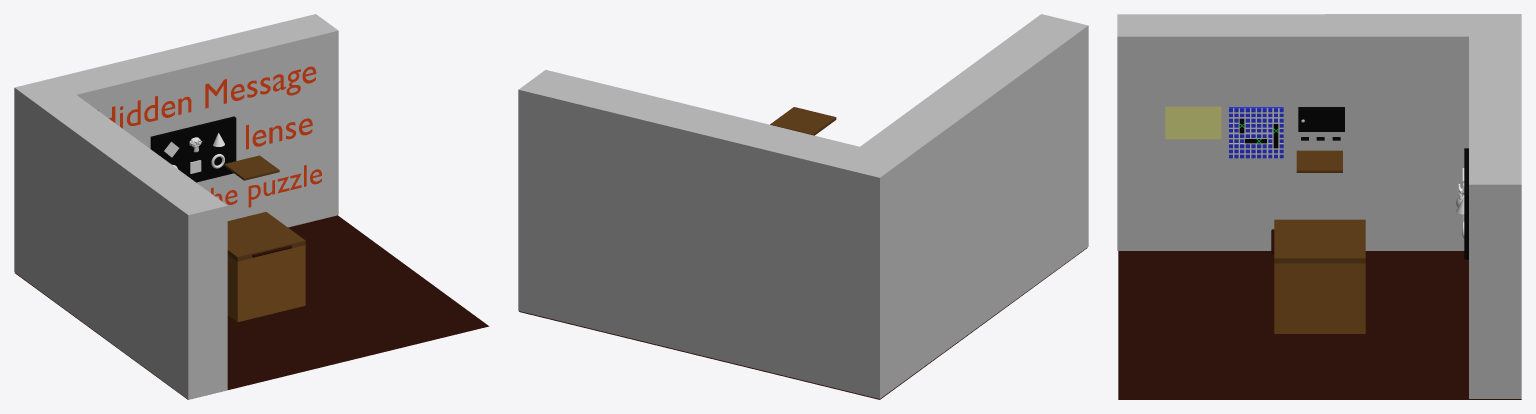
File: Corner 4.fbx
3 views of the same model, side by side, from view 1: azimuth 30°, elevation 25°; view 2: azimuth 150°, elevation 25°; view 3: azimuth 270°, elevation 25° (orthographic). The views are drawn at different scales.
Visible parts, largest first — view 1: Cube, Plane, Cube.006, Cube.009, Cube.044, Text, Text.002, Cube.043, Text.001; view 2: Cube, Cube.043, Plane; view 3: Cube, Plane, Cube.006, Cube.044, Cube.001, Plane.001, Cube.018, Cube.004, Cube.043, Cube.009.
Part boxes in pixels (<box>): Cube: <box>14,14,338,399</box>; Plane: <box>15,215,489,399</box>; Cube.006: <box>227,245,305,322</box>; Cube.009: <box>150,116,236,182</box>; Cube.044: <box>227,212,305,261</box>; Text: <box>98,66,316,128</box>; Text.002: <box>211,165,321,207</box>; Cube.043: <box>224,155,279,180</box>; Text.001: <box>246,118,312,149</box>; Cube: <box>518,14,1088,398</box>; Cube.043: <box>770,107,836,135</box>; Plane: <box>519,247,1087,399</box>; Cube: <box>1117,14,1521,398</box>; Plane: <box>1118,251,1521,399</box>; Cube.006: <box>1274,263,1365,333</box>; Cube.044: <box>1271,219,1365,263</box>; Cube.001: <box>1229,107,1283,158</box>; Plane.001: <box>1165,106,1221,139</box>; Cube.018: <box>1229,108,1283,158</box>; Cube.004: <box>1298,107,1344,131</box>; Cube.043: <box>1296,150,1342,172</box>; Cube.009: <box>1464,148,1468,259</box>.
Bounding box in the file's own units: 886 × 520 × 885.
